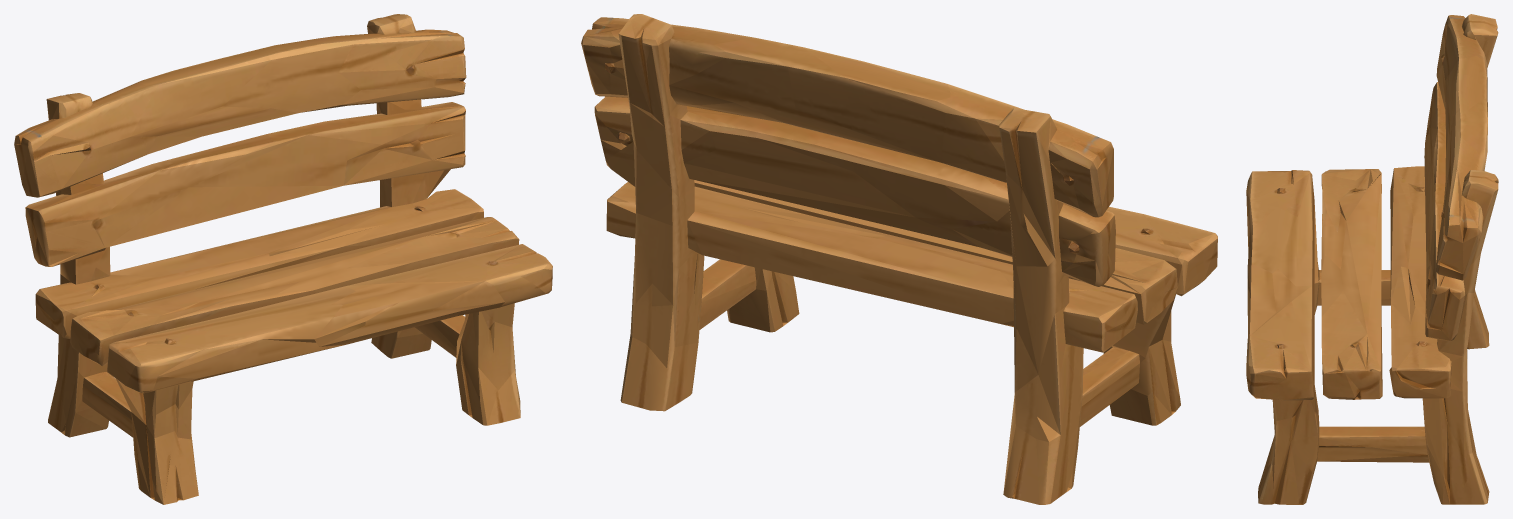
The model's file is bench.glb.
3 renders of one model, left to right at view 1: azimuth 30°, elevation 25°; view 2: azimuth 150°, elevation 25°; view 3: azimuth 270°, elevation 25°, orthographic. The views are drawn at different scales.
Size of the model in its own units: 1.9 by 1.35 by 0.9645.
1 material, 1 textured.
